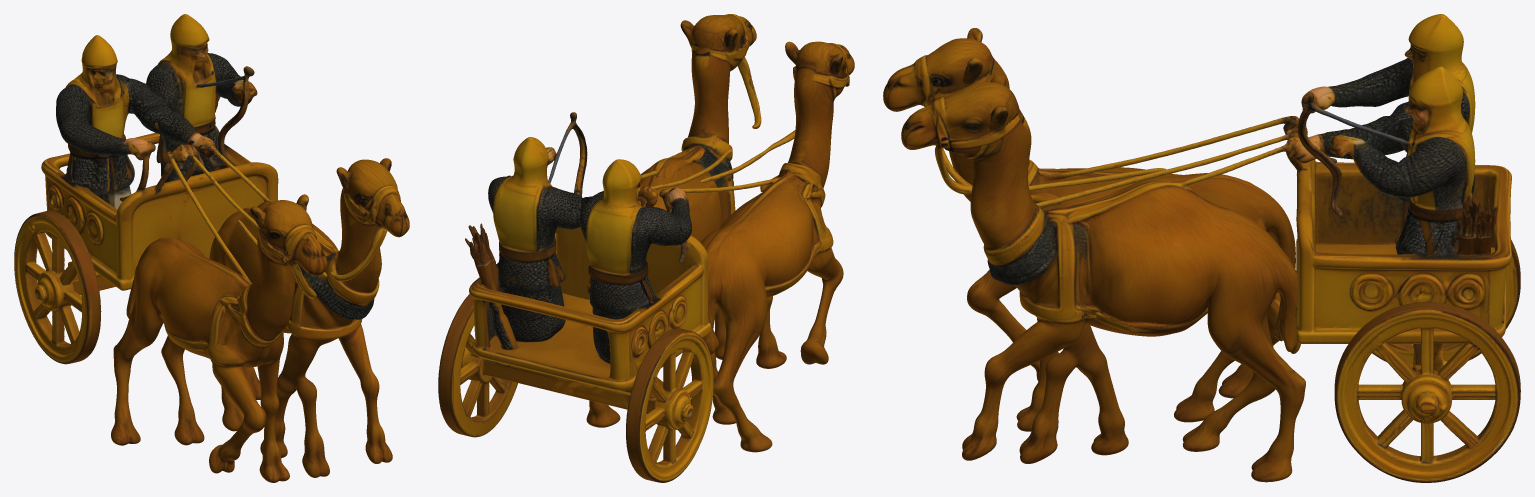
3 views of the same model, side by side, from view 1: azimuth 30°, elevation 25°; view 2: azimuth 150°, elevation 25°; view 3: azimuth 270°, elevation 25° (orthographic). The views are drawn at different scales.
Parts seen in each view (by area): view 1: tripo_node_935e6777-027d-4a51-ab6d-f00e197a6926; view 2: tripo_node_935e6777-027d-4a51-ab6d-f00e197a6926; view 3: tripo_node_935e6777-027d-4a51-ab6d-f00e197a6926.
Part boxes in pixels (bbox=[...]): tripo_node_935e6777-027d-4a51-ab6d-f00e197a6926: bbox=[14, 14, 409, 482]; tripo_node_935e6777-027d-4a51-ab6d-f00e197a6926: bbox=[438, 14, 854, 482]; tripo_node_935e6777-027d-4a51-ab6d-f00e197a6926: bbox=[883, 14, 1520, 482].
Bounding box in the file's own units: 0.5122 × 0.7146 × 1.
1 material, 1 textured.
